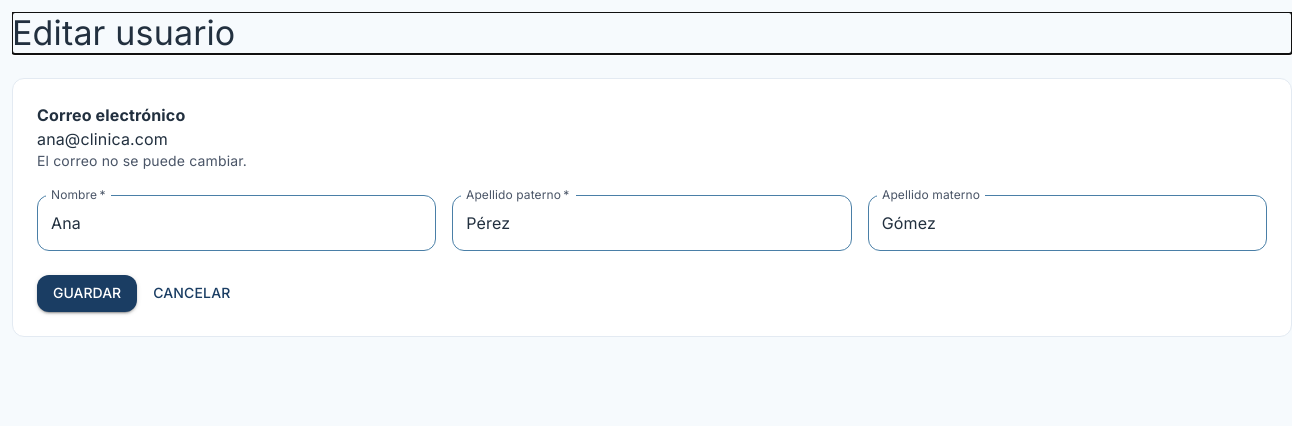
Test case: UserEditPage: the form › tells that it could not be saved when the service fails, and keeps what was typed
Replace the text in the field labelled "Nombre *" with "Anita". click: (237, 223)
box: [37,195,436,251]
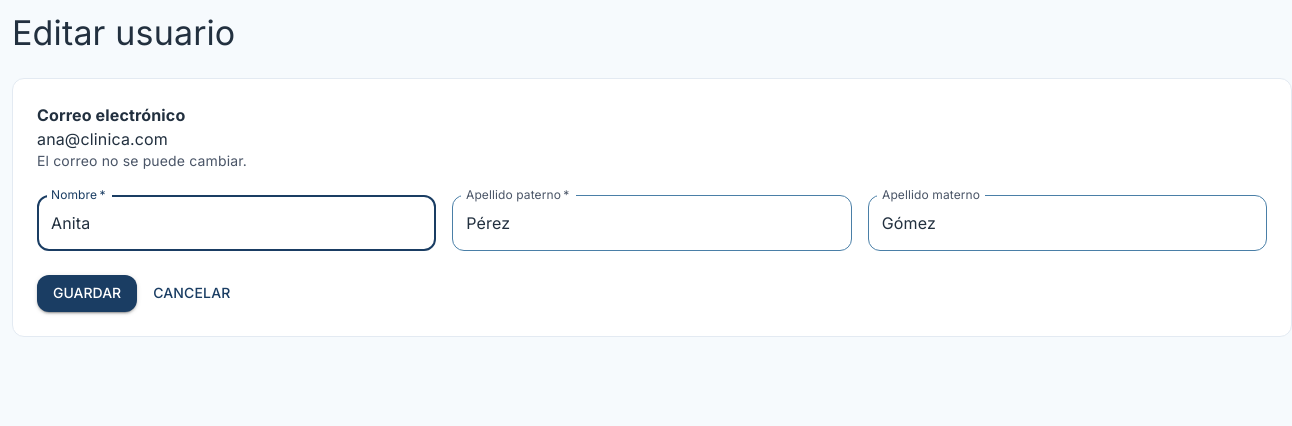
Click the button "Guardar". click: click(87, 293)
box: [37,275,137,312]
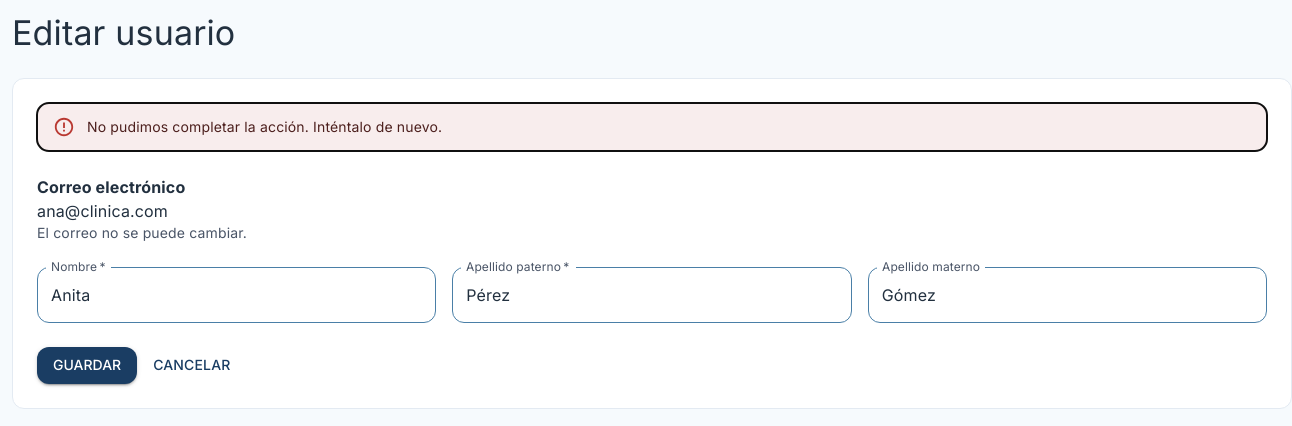
Check: the text "No pudimos completar la acción. Inténtalo de nuevo." is shown, box [87,118,442,135]
